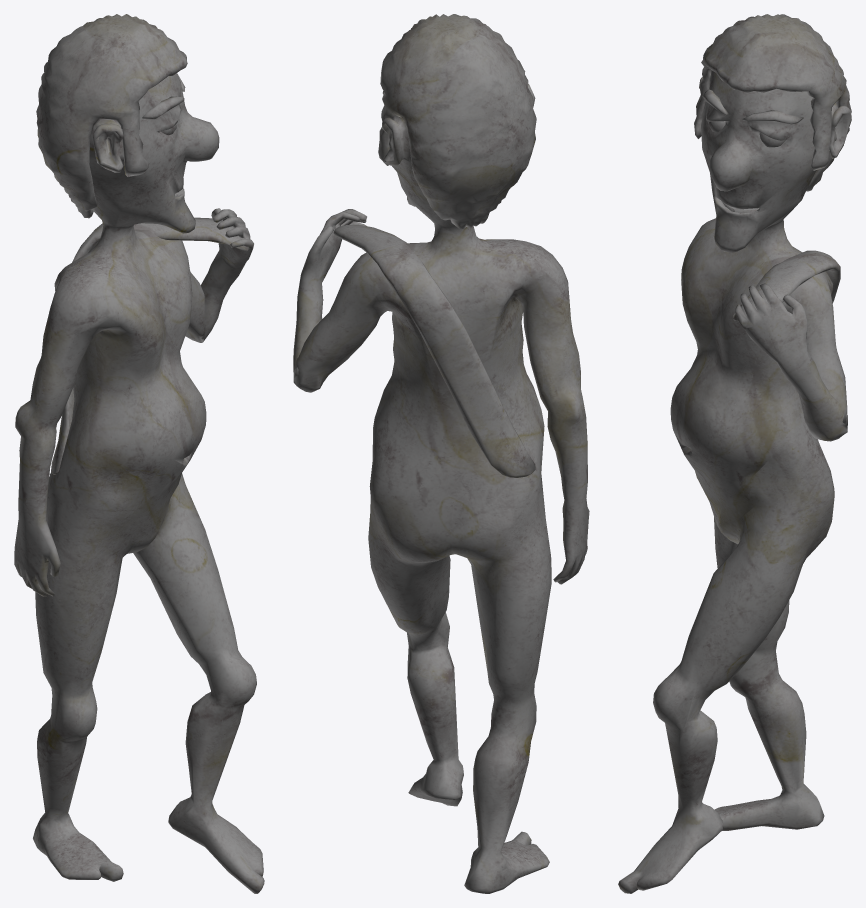
Rendered from Statue3.fbx.
3 views of the same model, side by side, from view 1: azimuth 30°, elevation 25°; view 2: azimuth 150°, elevation 25°; view 3: azimuth 270°, elevation 25° (orthographic). The views are drawn at different scales.
Visible parts, largest first — view 1: Statue3L; view 2: Statue3L; view 3: Statue3L.
Boxes of the visible parts, <box> form: Statue3L: <box>14,14,264,893</box>; Statue3L: <box>293,14,589,893</box>; Statue3L: <box>618,14,851,893</box>.
Size of the model in its own units: 62.71 by 201 by 50.74.
